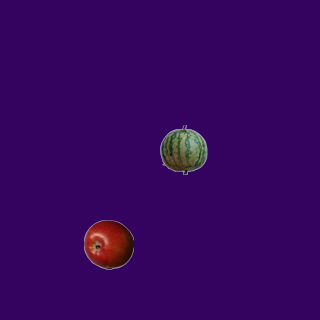Apple Braeburn: (83, 219, 133, 269)
Watermelon: (158, 124, 208, 174)
